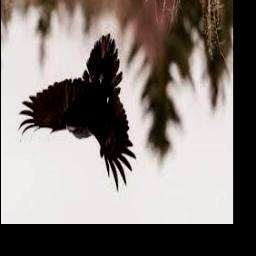Crow: (18, 32, 137, 192)
